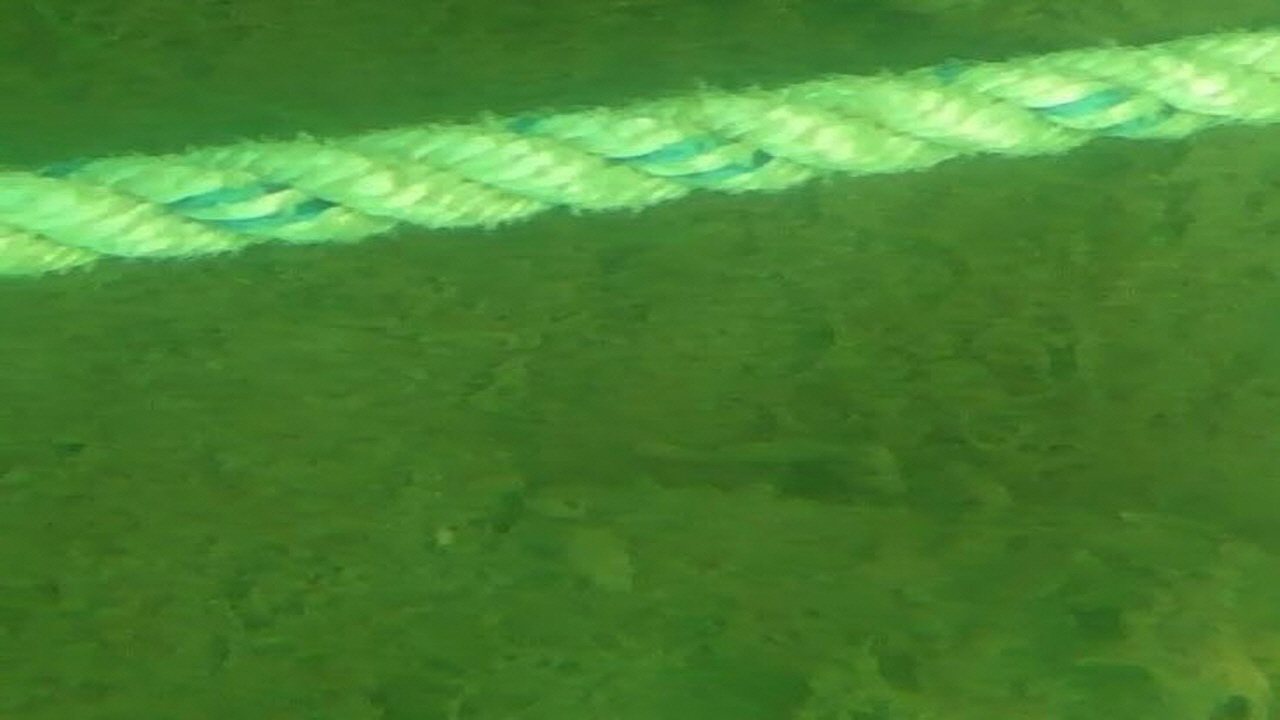rope: (0, 26, 1280, 280)
